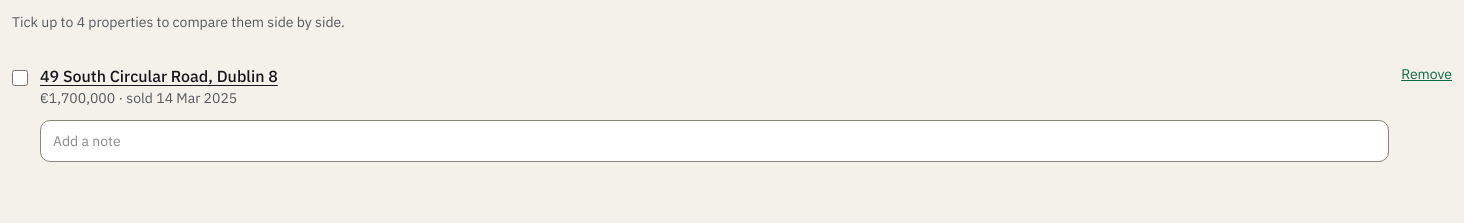
Test: Wishlist › says when a note could not be saved
This screenshot has width=1464, height=223.
Type "Near the canal" into the field with placeholder "Add a note" at (715, 141), box [40,120,1389,162]
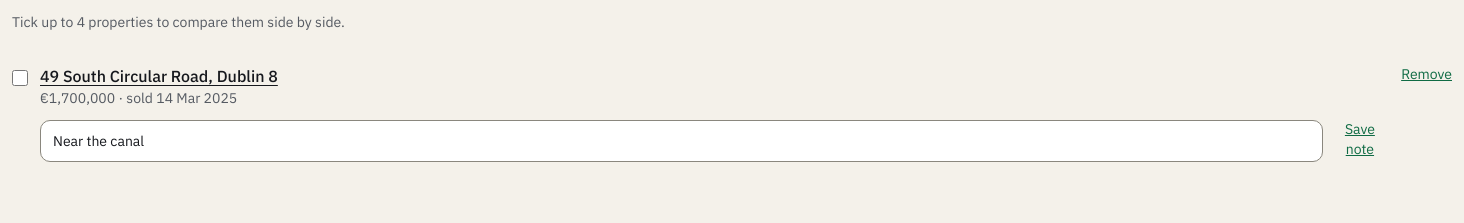
Click the button "Save note" at (1360, 139), box [1331,116,1389,162]
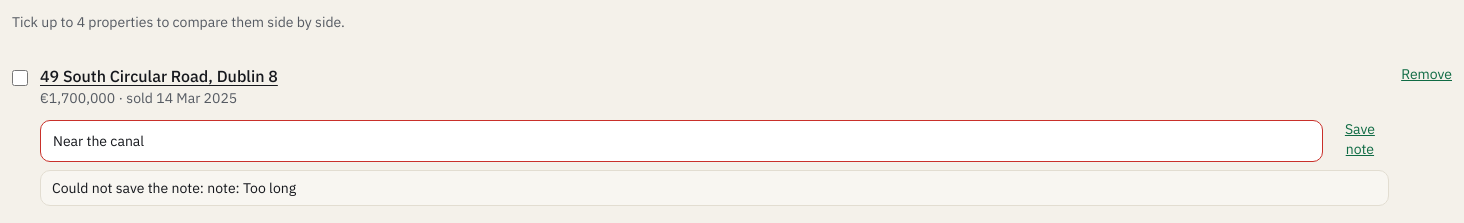
Expected: the text "Could not save the note: note: Too long" is shown, [40,170,1389,206]
